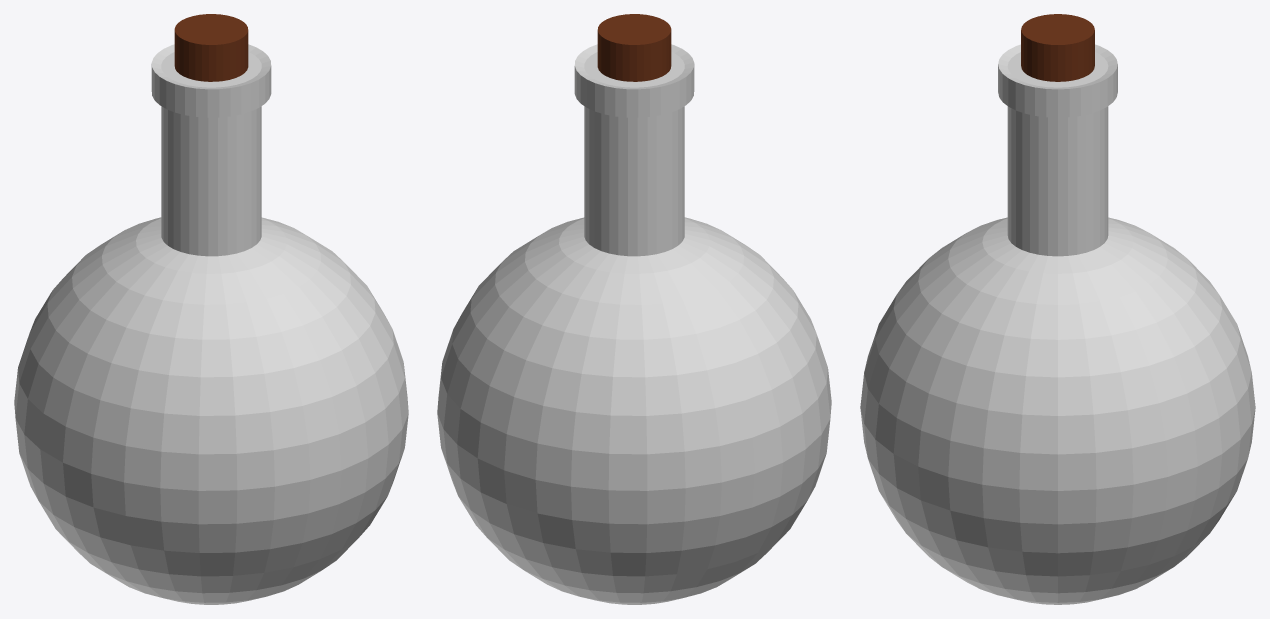
The model's file is potion-bottle.glb.
The picture shows the model from 3 angles, left to right: view 1: azimuth 30°, elevation 25°; view 2: azimuth 150°, elevation 25°; view 3: azimuth 270°, elevation 25°; orthographic projection.
Visible parts, largest first — view 1: potion_sphere, Cylinder; view 2: potion_sphere, Cylinder; view 3: potion_sphere, Cylinder.
Part boxes in pixels (left/top/right/bottom): potion_sphere: left=14, top=217, right=408, bottom=604; Cylinder: left=151, top=14, right=271, bottom=256; potion_sphere: left=437, top=217, right=831, bottom=604; Cylinder: left=574, top=14, right=694, bottom=256; potion_sphere: left=860, top=217, right=1255, bottom=604; Cylinder: left=998, top=14, right=1117, bottom=256.
Size of the model in its own units: 2 by 3.11 by 2.
